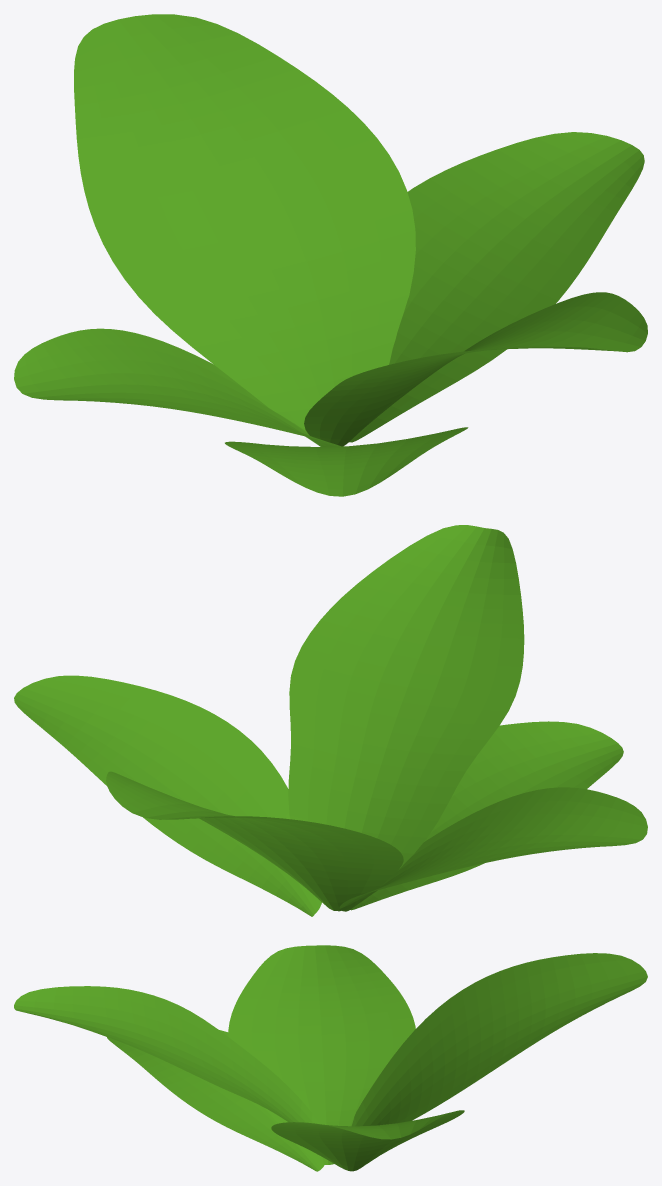
The model's file is GrassBush_1.fbx.
3 renders of one model, top to bottom at view 1: azimuth 30°, elevation 25°; view 2: azimuth 150°, elevation 25°; view 3: azimuth 270°, elevation 25°, orthographic. The views are drawn at different scales.
Parts seen in each view (by area): view 1: GrassBush_1.02, GrassBush_1_04, GrassBush_1_05, GrassBush_1_01, GrassBush_1_03; view 2: GrassBush_1_01, GrassBush_1_04, GrassBush_1_05, GrassBush_1.02, GrassBush_1_03; view 3: GrassBush_1_05, GrassBush_1.02, GrassBush_1_01, GrassBush_1_03, GrassBush_1_04.
Boxes of the visible parts, box(x1,y1,x2,y2) form: GrassBush_1.02: box(74, 14, 415, 430); GrassBush_1_04: box(349, 132, 644, 442); GrassBush_1_05: box(14, 328, 340, 446); GrassBush_1_01: box(304, 292, 647, 446); GrassBush_1_03: box(225, 427, 468, 496); GrassBush_1_01: box(288, 525, 524, 868); GrassBush_1_04: box(14, 675, 321, 916); GrassBush_1_05: box(339, 787, 647, 911); GrassBush_1.02: box(106, 771, 403, 911); GrassBush_1_03: box(350, 721, 623, 910); GrassBush_1_05: box(228, 945, 415, 1164); GrassBush_1.02: box(351, 953, 647, 1141); GrassBush_1_01: box(14, 986, 319, 1123); GrassBush_1_03: box(107, 1030, 324, 1171); GrassBush_1_04: box(271, 1110, 464, 1171).
Size of the model in its own units: 331 by 133 by 392.
1 material, 1 textured.
